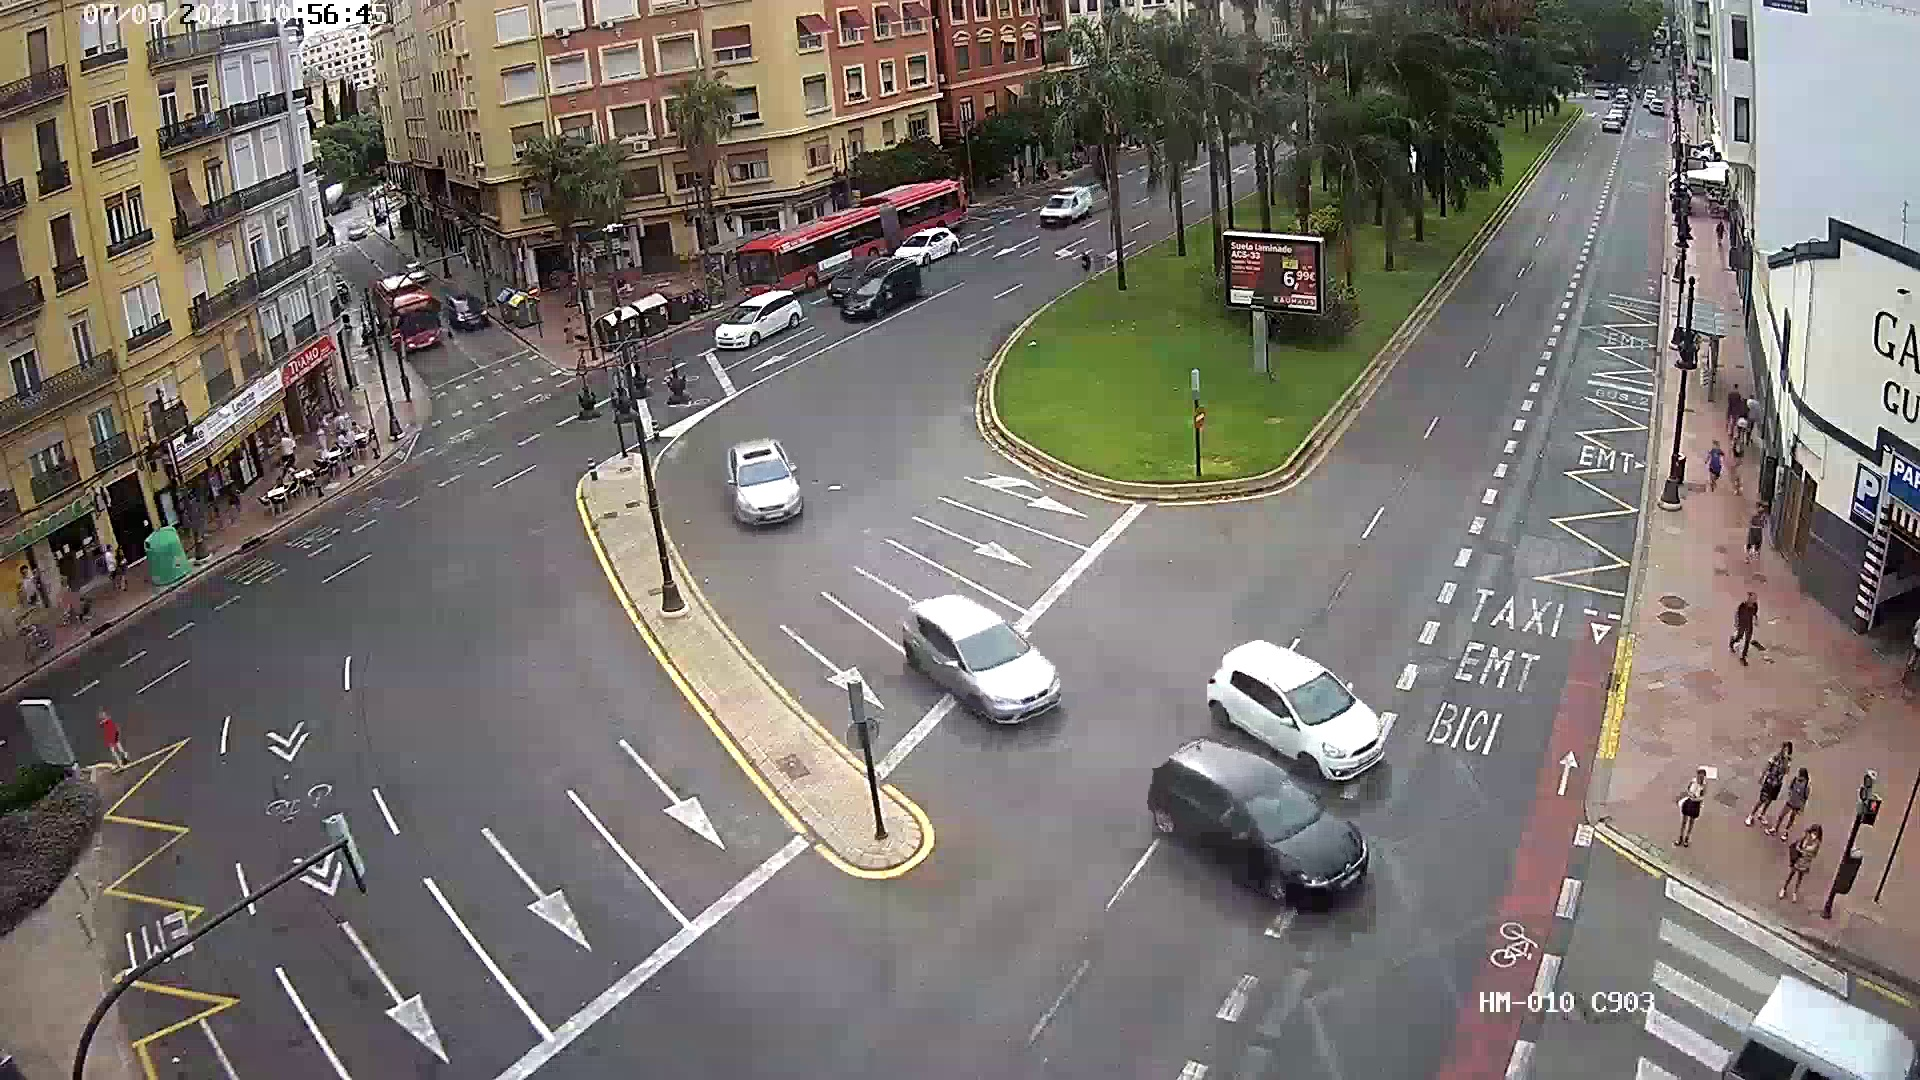Cars: (1113, 724, 1364, 902), (1204, 620, 1408, 778), (909, 576, 1079, 724), (702, 436, 828, 537), (708, 295, 804, 349), (855, 264, 930, 319), (438, 290, 501, 336)
